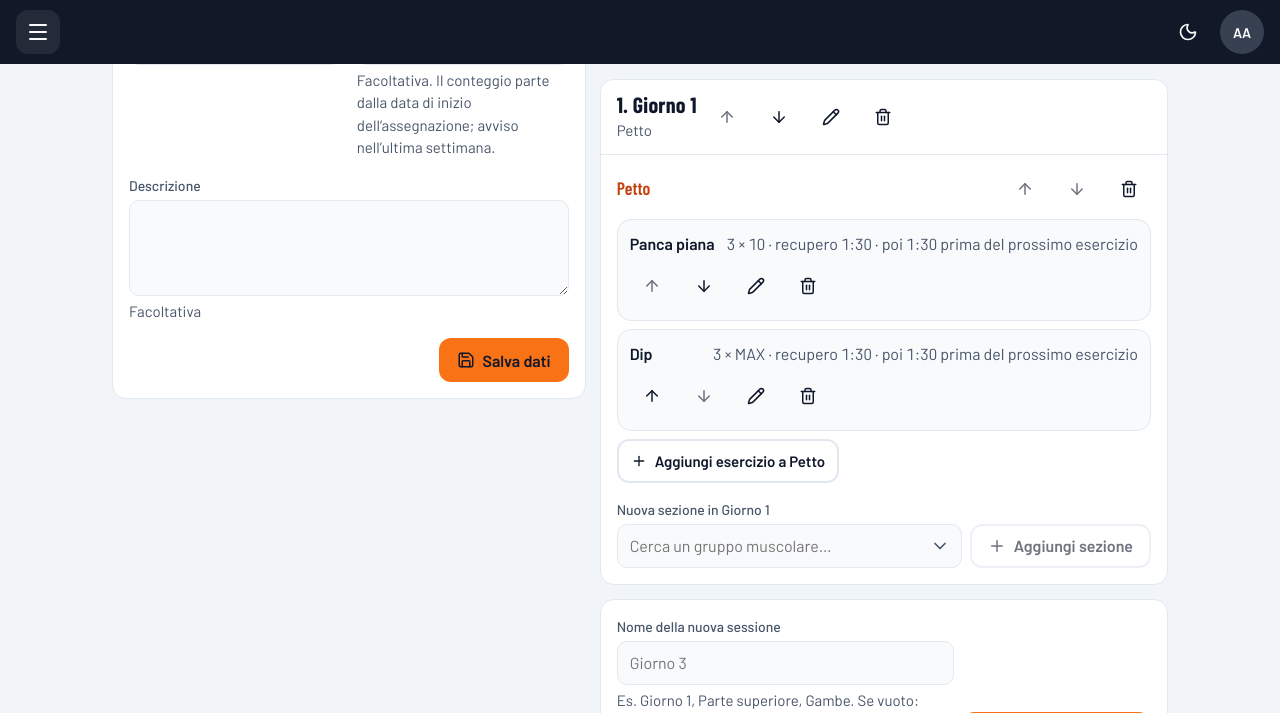
Test: flash after saving a plan › says "Scheda modificata" when editing an existing plan
(page scrolled)
Click the button "Salva dati" at (504, 360), box [439,338,569,382]
(page scrolled)
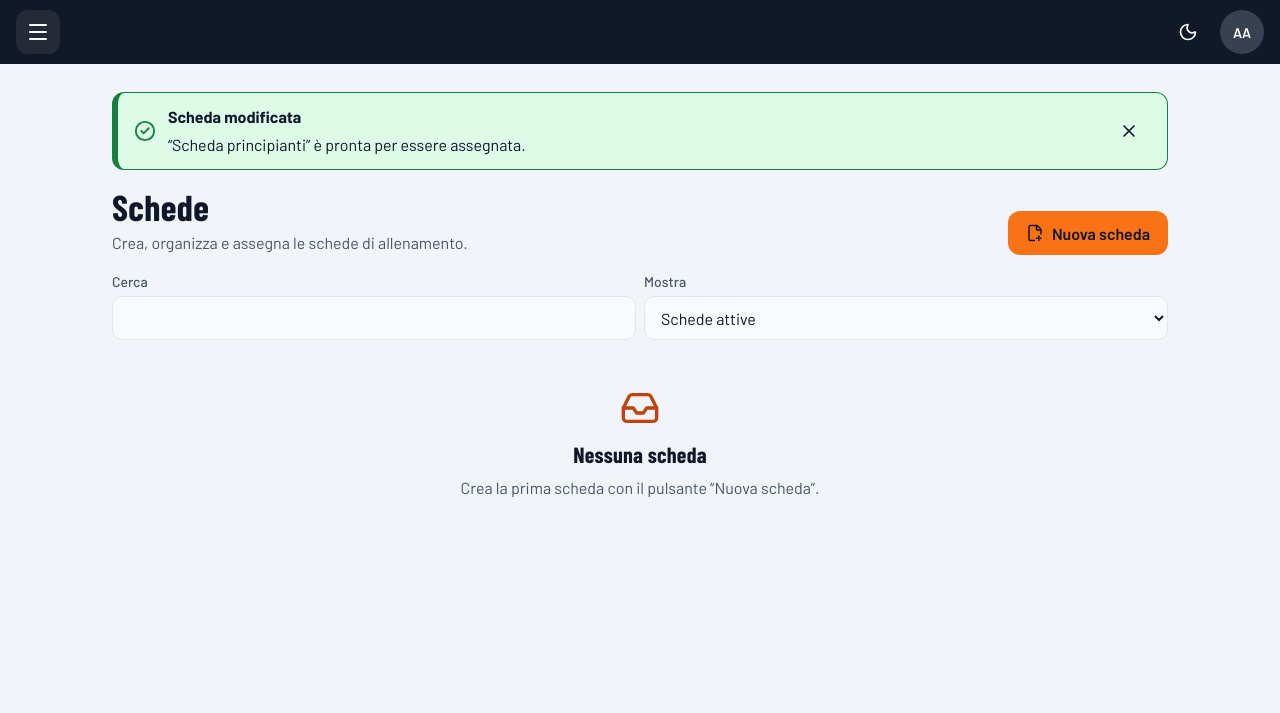
Now the text "Scheda modificata" is shown, box [168,107,301,126]
